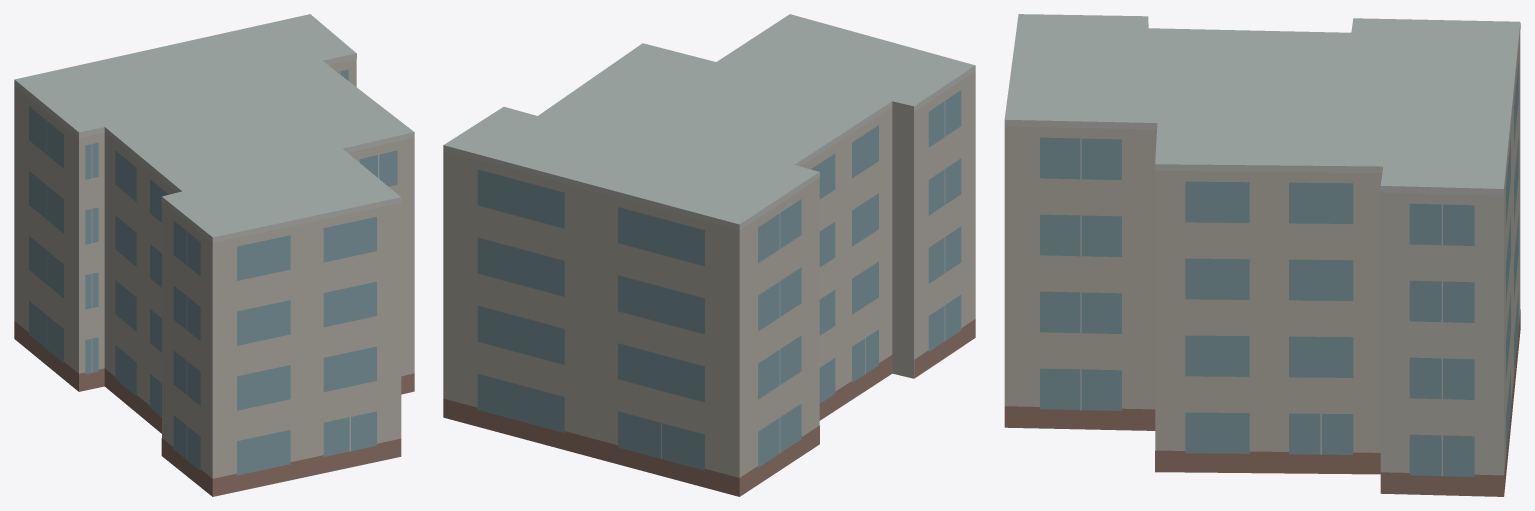
Rendered from survey-upis-32927551.glb.
3 views of the same model, side by side, from view 1: azimuth 30°, elevation 25°; view 2: azimuth 150°, elevation 25°; view 3: azimuth 270°, elevation 25° (orthographic). The views are drawn at different scales.
Visible parts, largest first — view 1: survey-upis-32927551.tmp; view 2: survey-upis-32927551.tmp; view 3: survey-upis-32927551.tmp.
Part boxes in pixels (x1,y1,x2,y2): survey-upis-32927551.tmp: (14,14,414,496); survey-upis-32927551.tmp: (443,14,975,496); survey-upis-32927551.tmp: (1004,14,1520,496).
Bounding box in the file's own units: 14.03 × 11.5 × 17.48.
